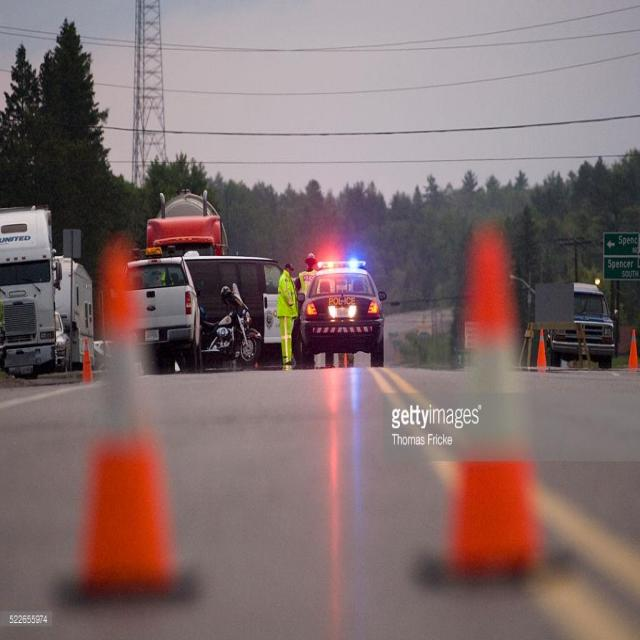Cone: (59, 236, 192, 593), (446, 228, 550, 598)
